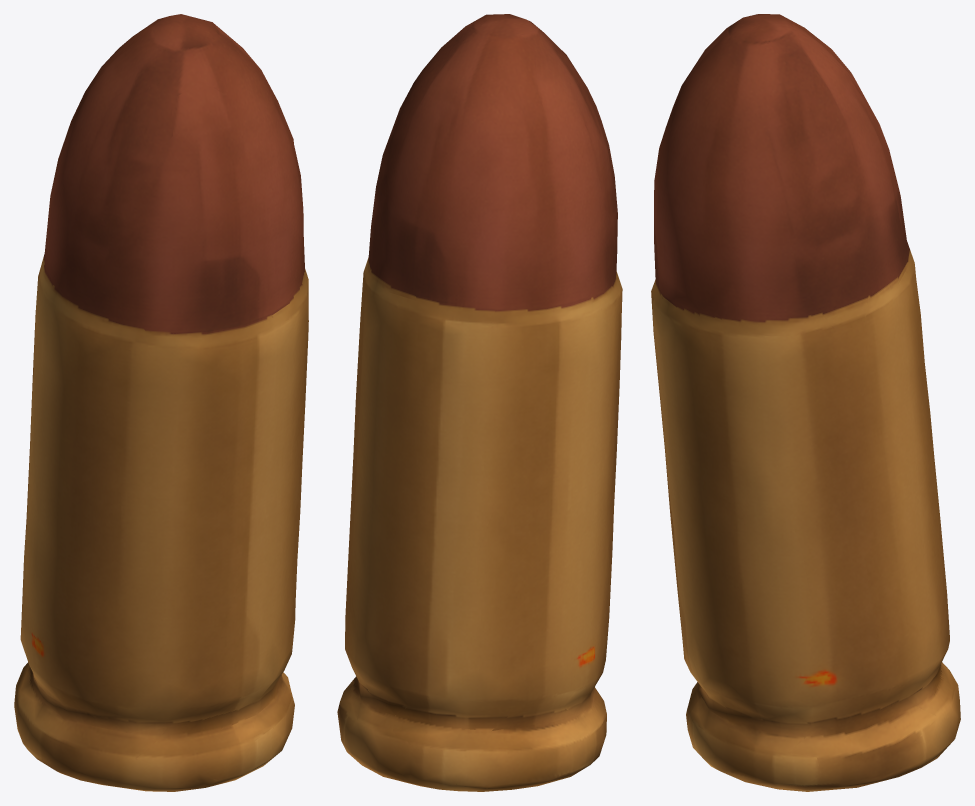
Rendered from Pistol_Cartridge.glb.
The picture shows the model from 3 angles, left to right: view 1: azimuth 30°, elevation 25°; view 2: azimuth 150°, elevation 25°; view 3: azimuth 270°, elevation 25°; orthographic projection. The views are drawn at different scales.
Bounding box in the file's own units: 0.3083 × 0.8857 × 0.3438.
Materials: 1 (1 with a texture image).
